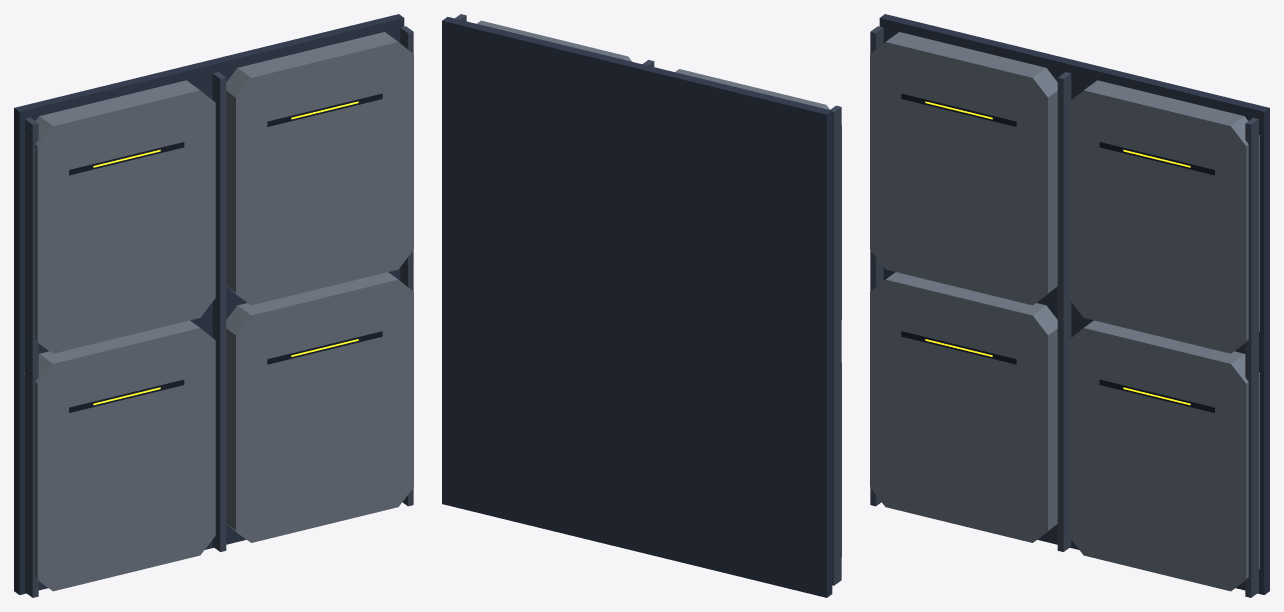
File: fus_shield_wall_panel.glb
The picture shows the model from 3 angles, left to right: view 1: azimuth 30°, elevation 25°; view 2: azimuth 150°, elevation 25°; view 3: azimuth 330°, elevation 25°; orthographic projection.
Visible parts, largest first — view 1: lead_steel_cassette, shield_back, vertical_cooling_channel, inspection_slot, inspection_led; view 2: shield_back, vertical_cooling_channel, lead_steel_cassette; view 3: lead_steel_cassette, shield_back, vertical_cooling_channel, inspection_slot, inspection_led.
Part boxes in pixels (x1,y1,x2,y2): lead_steel_cassette: (24,32,413,591); shield_back: (14,14,404,594); vertical_cooling_channel: (25,26,413,597); inspection_slot: (69,93,382,412); inspection_led: (93,101,358,405); shield_back: (442,17,832,597); vertical_cooling_channel: (455,14,841,585); lead_steel_cassette: (477,20,841,557); lead_steel_cassette: (870,32,1259,591); shield_back: (879,14,1269,594); vertical_cooling_channel: (870,26,1258,597); inspection_slot: (901,93,1214,412); inspection_led: (925,101,1190,405).
Size of the model in its own units: 4 by 4.8 by 0.35.
